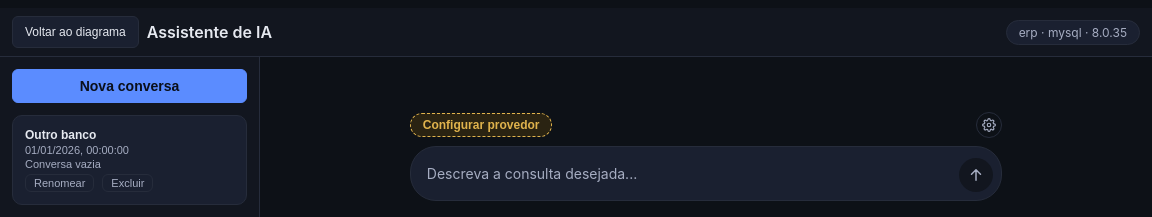
Test: PaginaDoAssistente › banco conectado diferente do registrado na conversa exibe aviso sutil sem bloquear o histórico (US2)
This screenshot has width=1152, height=217.
(page scrolled)
Click the button "Outro banco" at (130, 149), box [25,128,234,170]
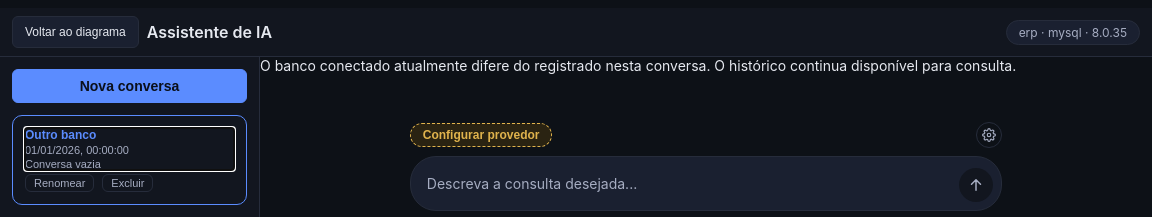
Expected: the text "banco conectado atualmente difere" is shown, [260,57,1016,74]
